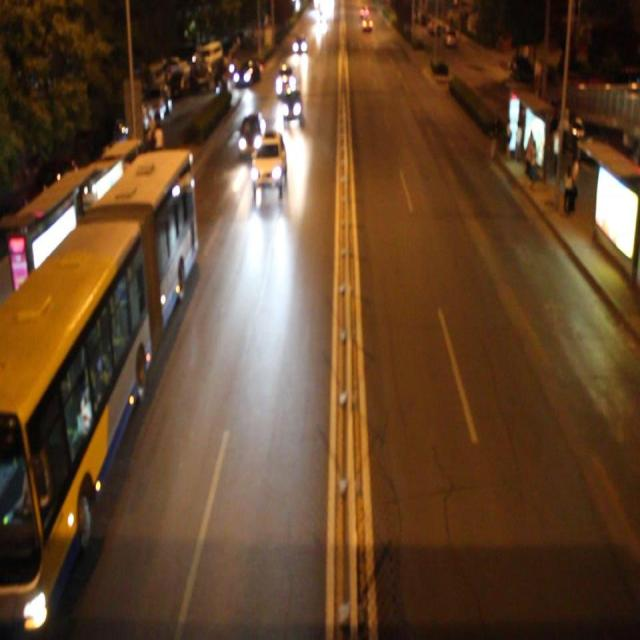car: (252, 129, 286, 189), (238, 110, 265, 156), (281, 88, 302, 124), (274, 63, 296, 96)
van: (0, 154, 196, 640)
